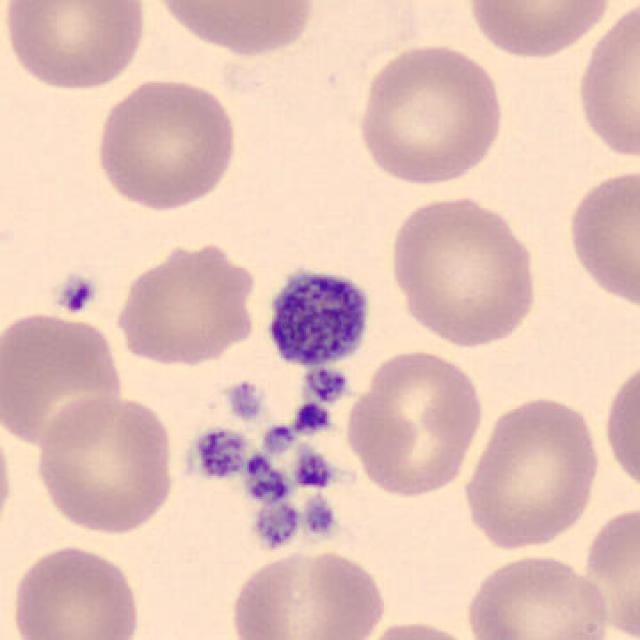Platelets: (258, 262, 375, 374), (183, 425, 249, 481), (239, 455, 292, 499), (52, 272, 100, 316), (255, 499, 298, 548), (302, 365, 354, 405), (224, 377, 267, 423), (293, 448, 336, 490), (300, 384, 338, 428), (302, 495, 340, 538), (290, 400, 334, 437), (260, 422, 299, 458)
RBC: (384, 191, 542, 349), (458, 392, 604, 554), (352, 38, 508, 188), (343, 346, 487, 500), (30, 390, 178, 536), (90, 74, 242, 213), (110, 236, 260, 368), (2, 307, 128, 455), (224, 546, 391, 640), (0, 0, 151, 93), (7, 541, 146, 640), (461, 552, 614, 640), (562, 164, 640, 314), (572, 0, 638, 164), (146, 0, 320, 58), (462, 0, 615, 62), (579, 499, 640, 640), (601, 352, 640, 500), (352, 617, 487, 640), (0, 412, 16, 546)
